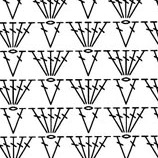enseble_chain: (117, 101, 154, 139), (81, 17, 117, 54), (43, 45, 79, 82), (118, 46, 154, 82), (43, 102, 79, 138), (6, 18, 41, 55), (82, 75, 117, 111), (100, 102, 130, 139), (27, 102, 56, 137), (62, 17, 91, 52), (3, 106, 33, 139), (27, 45, 55, 80), (78, 105, 108, 137), (79, 48, 108, 81), (4, 49, 33, 81), (118, 20, 146, 52), (119, 77, 146, 109), (43, 20, 70, 52), (44, 78, 71, 109), (68, 75, 93, 108), (85, 132, 116, 158), (34, 19, 58, 51), (10, 133, 40, 158), (120, 133, 145, 158), (64, 134, 89, 158), (45, 134, 69, 158), (0, 78, 17, 108), (0, 21, 18, 49), (8, 78, 26, 105), (116, 107, 133, 134), (120, 0, 134, 19), (45, 0, 59, 19)
fan: (70, 19, 92, 50), (0, 21, 20, 49), (81, 77, 98, 105), (112, 134, 131, 158), (37, 135, 55, 158), (2, 136, 18, 158), (83, 136, 96, 158)
